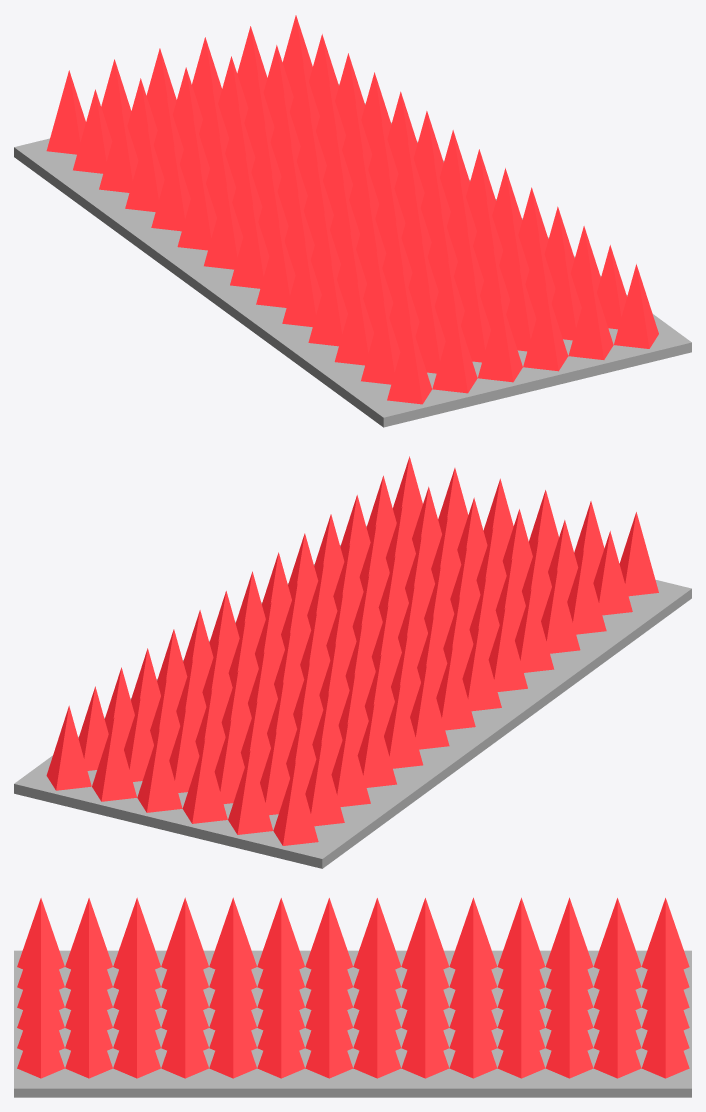
Rendered from SpikesAsset.fbx.
3 views of the same model, one above another, from view 1: azimuth 30°, elevation 25°; view 2: azimuth 150°, elevation 25°; view 3: azimuth 270°, elevation 25° (orthographic). The views are drawn at different scales.
Parts seen in each view (by area): view 1: Spikes; view 2: Spikes; view 3: Spikes.
Boxes of the visible parts, box(x1,y1,x2,y2) form: Spikes: box(14, 15, 691, 427); Spikes: box(14, 456, 691, 868); Spikes: box(14, 897, 691, 1097).
Bounding box in the file's own units: 3.4 × 7.06 × 0.9256.
